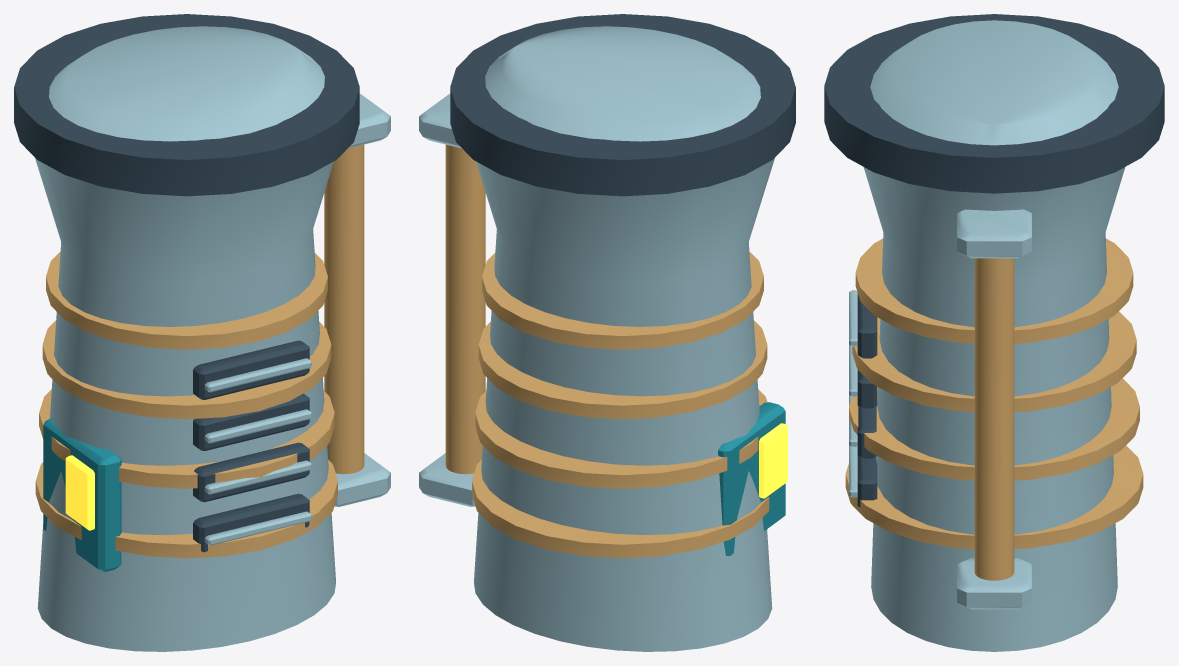
The model's file is CoolingStack.glb.
3 renders of one model, left to right at view 1: azimuth 30°, elevation 25°; view 2: azimuth 150°, elevation 25°; view 3: azimuth 270°, elevation 25°, orthographic.
Parts seen in each view (by area): view 1: stack; view 2: stack; view 3: stack.
Part boxes in pixels (x1,y1,x2,y2): stack: (14,14,390,651); stack: (419,14,795,651); stack: (824,14,1164,651).
Bounding box in the file's own units: 3.13 × 4.6 × 2.76.
